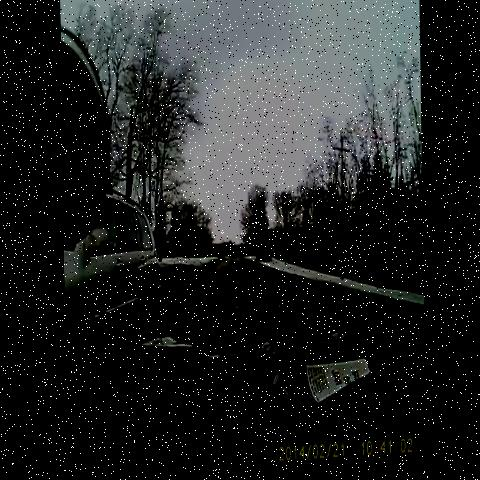pothole: (260, 296, 316, 349), (205, 295, 251, 355), (183, 307, 209, 343), (209, 259, 232, 289)
